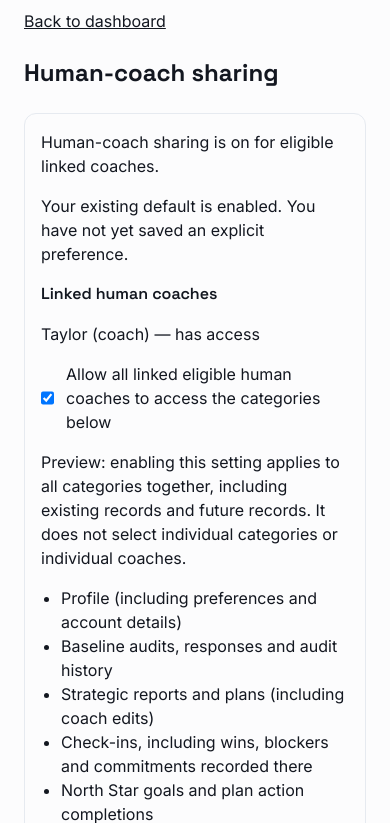
Test: requires acknowledgement and does not claim private after failed save
Expected: the list item "Taylor (coach) — has access" is shown, x1=41 y1=324 x2=260 y2=344
Step 1. Click the switch → point(48, 398), box x1=41 y1=362 x2=54 y2=434
(page scrolled)
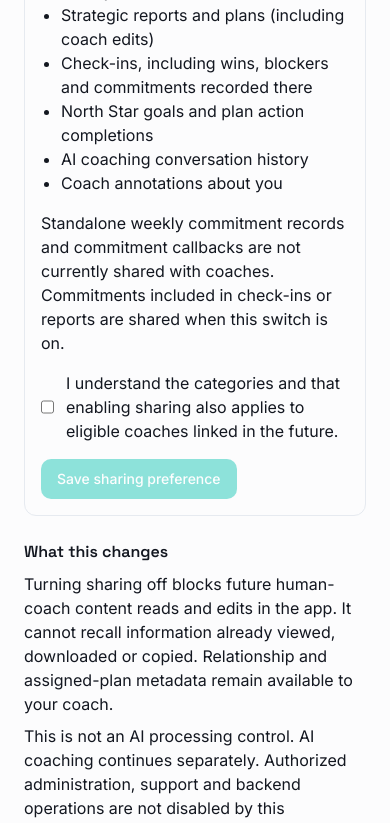
Step 2. Click the checkbox → point(48, 407), box x1=41 y1=371 x2=54 y2=443
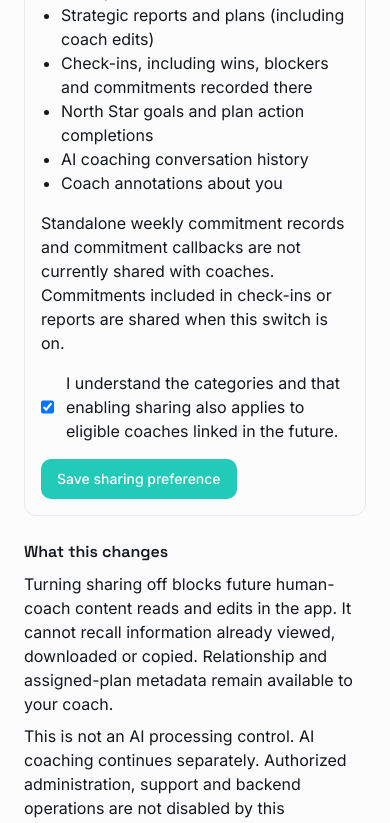
Step 3. Click the button "Save sharing preference" → point(139, 479), box x1=41 y1=459 x2=237 y2=499
(page scrolled)
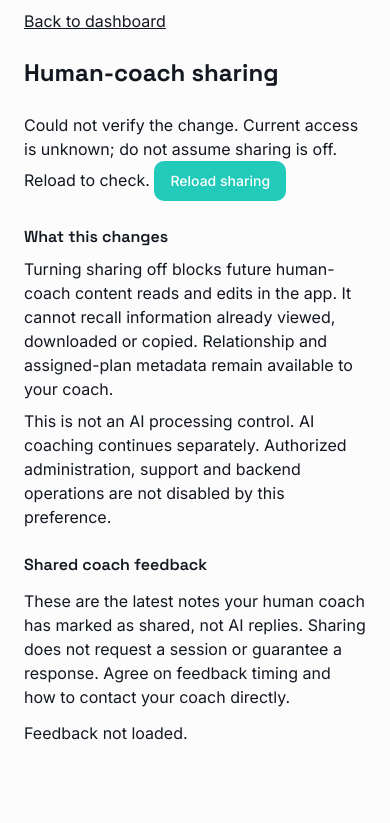
Now the message is shown, box x1=24 y1=113 x2=366 y2=201
Now the text "Current access is unknown" is shown, box x1=24 y1=115 x2=358 y2=190
